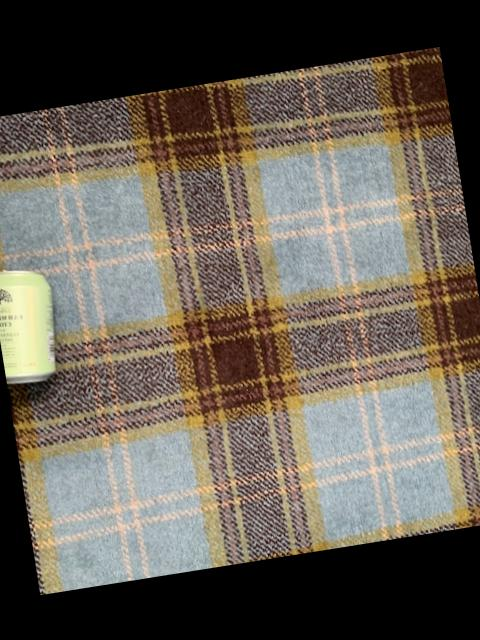metal: (0, 271, 56, 384)
